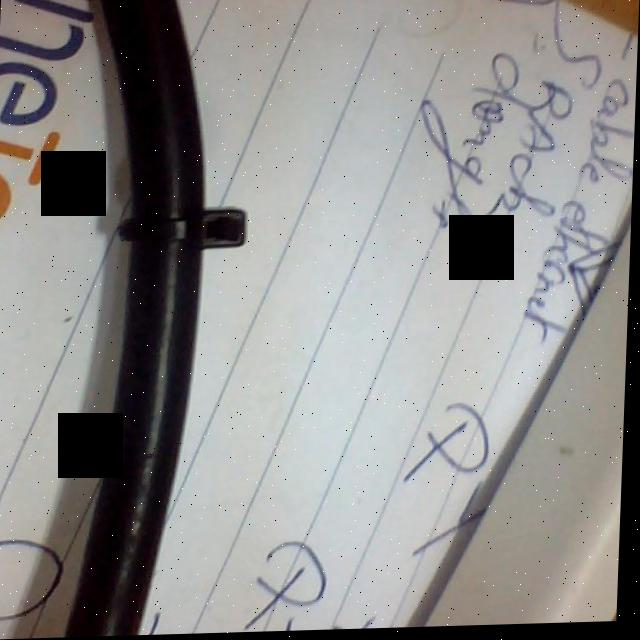cable-tie: (119, 206, 250, 257)
